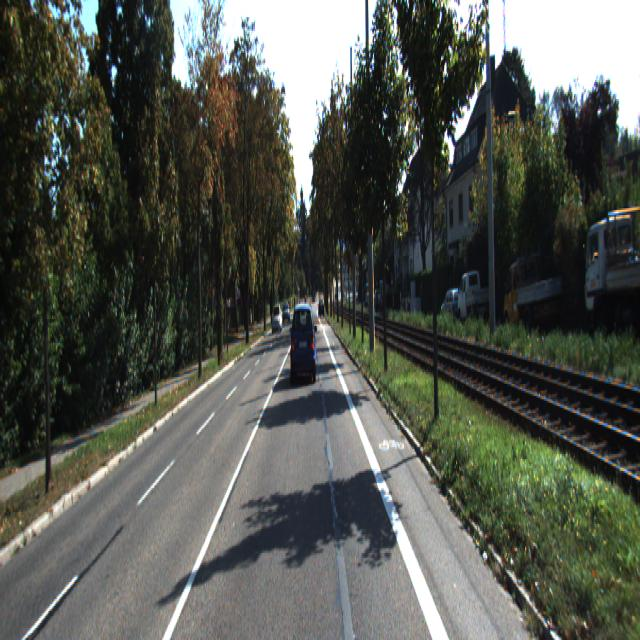Car: (290, 300, 316, 385), (442, 288, 466, 324), (272, 304, 282, 334)
DontCare: (319, 298, 324, 314)
Truck: (584, 203, 640, 345)
Van: (502, 252, 564, 335), (457, 268, 491, 322)
